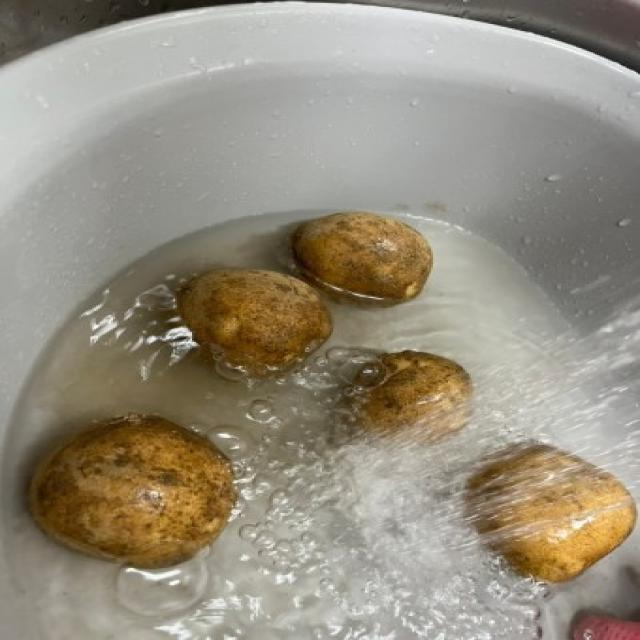potato: (20, 412, 242, 572), (457, 439, 640, 585), (180, 260, 326, 382), (282, 206, 434, 310), (342, 346, 468, 456)
